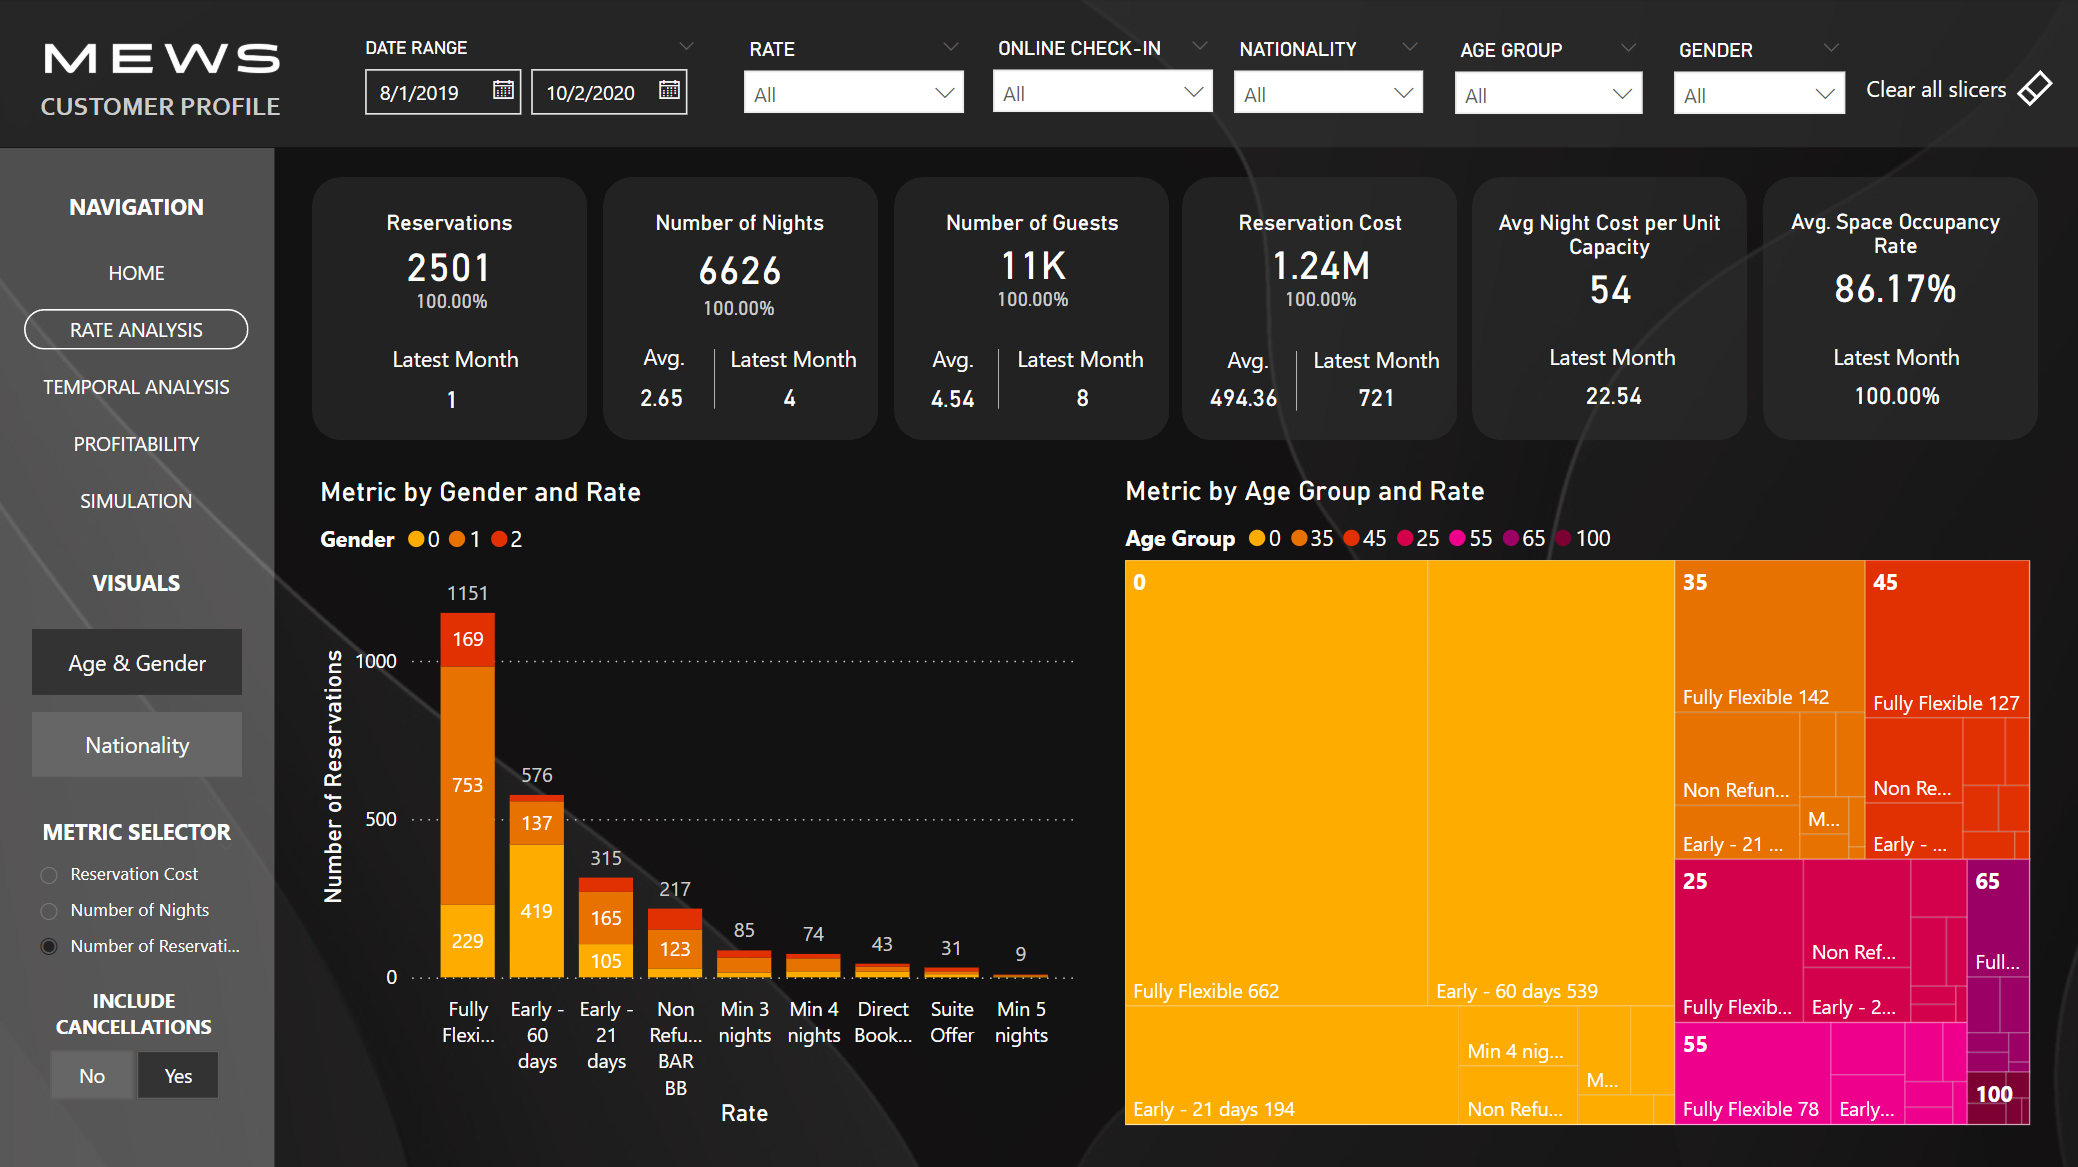

The dashboard page shown, as its layout file describes it:
{"tool":"powerbi","page":{"name":"RATE ANALYSIS","canvas":[1280,720],"ordinal":1},"visuals":[{"type":"group","id":"g1","title":"Background","box":[0,0,1280,720.9],"z":0},{"type":"shape","title":"Header Bar","box":[0,0,1280,91.7],"z":0,"group":"g2"},{"type":"shape","title":"Side Bar","box":[0,91.9,169.8,627.7],"z":0,"group":"g5"},{"type":"shape","title":"Box Reservations","box":[193.3,110,169.2,161.7],"z":0,"group":"g10"},{"type":"shape","title":"Box Num Nights","box":[371.7,110,169.2,161.7],"z":0,"group":"g11"},{"type":"shape","title":"Box Reservation Cost","box":[727.5,110,169.2,161.7],"z":0,"group":"g9"},{"type":"shape","title":"Box Avg. Night per Unit","box":[905.8,110,169.2,161.7],"z":0,"group":"g7"},{"type":"shape","title":"Box Avg. Occupancy","box":[1084.2,110,169.2,161.7],"z":0,"group":"g8"},{"type":"textbox","title":"Text Navitagor","box":[0,114.1,170,31.7],"z":0,"group":"g6"},{"type":"columnChart","title":"Metric by Gender and Rate","fields":{"Y":["int_reservations_enriched.Reservations"],"Category":["int_reservations_enriched.rate_name"],"Series":["int_reservations_enriched.gender"]},"box":[193.3,292.9,474.7,404.9],"z":0,"group":"g3"},{"type":"actionButton","title":"Nationality Bookmark","box":[20.6,438.6,129.1,39.7],"z":0,"group":"g4"},{"type":"shape","title":"Shader","box":[0,0,1280,720.9],"z":1000,"group":"g1"},{"type":"textbox","title":"Customer Profile Text","box":[20.8,51.7,165.8,30.8],"z":1000,"group":"g2"},{"type":"card","title":"Avg. Space Occupancy Rate","fields":{"Values":["int_reservations_enriched.avg_occupancy_rate"]},"box":[1088.2,129.5,155.6,70.4],"z":1000,"group":"g8"},{"type":"card","title":"Reservations","fields":{"Values":["int_reservations_enriched.Reservations"]},"box":[192.5,130,170,58.3],"z":1000,"group":"g10"},{"type":"card","title":"Avg Night Cost per Unit Capacity","fields":{"Values":["int_reservations_enriched.AvgNightCostPerUnitCapacity"]},"box":[905.8,130,169.2,70.8],"z":1000,"group":"g7"},{"type":"pageNavigator","box":[15.8,155.8,138.3,167.2],"z":1000,"group":"g6"},{"type":"card","title":"Avg. Num Nights","fields":{"Values":["int_reservations_enriched.avg_number_of_nights"]},"box":[370,215.8,75.8,62.5],"z":1000,"group":"g11"},{"type":"card","title":"Avg. Cost","fields":{"Values":["int_reservations_enriched.avg_reservation_cost"]},"box":[727.5,215.8,75.8,62.5],"z":1000,"group":"g9"},{"type":"treemap","title":"Metric by Age Group and Rate","fields":{"Values":["int_reservations_enriched.Reservations"],"Group":["int_reservations_enriched.age_group"],"Details":["int_reservations_enriched.rate_name"]},"box":[687.8,292.6,565.6,404.9],"z":1000,"group":"g3"},{"type":"actionButton","title":"Age & Gender Bookmark","box":[20.6,387.4,129.1,40.5],"z":1000,"group":"g4"},{"type":"slicer","title":"INCLUDE CANCELLATIONS","fields":{"Values":["IncludeCancellations.Include"]},"box":[6.1,607.5,154.4,75.7],"z":1000,"group":"g5"},{"type":"group","id":"g2","title":"Header","box":[0,0,1280,92.5],"z":2000},{"type":"image","title":"Mews Logo","box":[24.2,14.2,154.2,45.8],"z":2000,"group":"g2"},{"type":"shape","title":"Box Num Guests","box":[550,110,169.2,161.7],"z":2000,"group":"g12"},{"type":"card","title":"Reservations %","fields":{"Values":["int_reservations_enriched.% Reservations"]},"box":[193.7,151.7,170,71.7],"z":2000,"group":"g10"},{"type":"textbox","title":"Text Avg Num Nights","box":[391.7,206.7,49.2,33.3],"z":2000,"group":"g11"},{"type":"textbox","title":"Text Avg. Cost","box":[750,208.3,46.7,33.3],"z":2000,"group":"g9"},{"type":"card","title":"LM Avg. Night per Unit","fields":{"Values":["int_reservations_enriched.latest_month_night_cost_per_unit_capacity"]},"box":[955,214.2,75.8,62.5],"z":2000,"group":"g7"},{"type":"card","title":"LM Avg. Space Occupancy","fields":{"Values":["int_reservations_enriched.latest_month_occupancy_rate"]},"box":[1128.4,214.2,75.8,62.5],"z":2000,"group":"g8"},{"type":"textbox","title":"Visuals text box","box":[0,345.2,169.8,31.9],"z":2000,"group":"g4"},{"type":"slicer","title":"METRIC SELECTOR","fields":{"Values":["Parameter.Metric Selector"]},"box":[13,503.1,144.2,104.3],"z":2000,"group":"g5"},{"type":"slicer","title":"Gender Slicer","fields":{"Values":["int_reservations_enriched.gender"]},"box":[1019.8,20.2,124.5,71.8],"z":3000,"group":"g2"},{"type":"textbox","title":"Text LM Avg. Night per Unit","box":[948.3,206.7,95.8,45],"z":3000,"group":"g7"},{"type":"textbox","title":"Text LM Avg. Space Occupancy","box":[1122.5,206.7,95.8,45],"z":3000,"group":"g8"},{"type":"shape","title":"Num Nights Separator","box":[421.7,215.8,37.5,36.7],"z":3000,"group":"g11"},{"type":"card","title":"Avg. Num Guests","fields":{"Values":["int_reservations_enriched.avg_number_of_guests"]},"box":[548.3,216,75.8,62.5],"z":3000,"group":"g12"},{"type":"card","title":"LM Reservations","fields":{"Values":["int_reservations_enriched.latest_month_number_of_reservations"]},"box":[240.8,216.7,75.8,62.5],"z":3000,"group":"g10"},{"type":"shape","title":"Cost Separator","box":[779.2,216.7,37.5,36.7],"z":3000,"group":"g9"},{"type":"group","id":"g3","title":"Visuals","box":[19.9,292.6,1233.6,405.3],"z":3000},{"type":"group","id":"g4","title":"Visuals Selector","box":[0,345.2,169.8,133.1],"z":3000,"group":"g5"},{"type":"shape","title":"Age & Gender Visual Shader","box":[20.6,387.4,129.1,40.5],"z":3000,"group":"g4"},{"type":"slicer","title":"Nationality Slicer","fields":{"Values":["int_reservations_enriched.nationality_code"]},"box":[749.7,19.9,136,72.6],"z":4000,"group":"g2"},{"type":"group","id":"g5","title":"Side Bar","box":[0,91.9,170,627.7],"z":4000},{"type":"group","id":"g6","title":"Navigator","box":[0,114.1,170,208.9],"z":4000,"group":"g5"},{"type":"textbox","title":"Text LM Reservations","box":[237.5,207.5,95.8,45],"z":4000,"group":"g10"},{"type":"textbox","title":"Text Avg Num Guests","box":[568.3,207.5,46.7,33.3],"z":4000,"group":"g12"},{"type":"card","title":"LM Num Nights","fields":{"Values":["int_reservations_enriched.latest_month_number_of_nights"]},"box":[448.3,215.8,75.8,62.5],"z":4000,"group":"g11"},{"type":"card","title":"LM Cost","fields":{"Values":["int_reservations_enriched.latest_month_reservation_costs"]},"box":[809.2,215.8,75.8,62.5],"z":4000,"group":"g9"},{"type":"slicer","title":"Age Slicer","fields":{"Values":["int_reservations_enriched.age_group"]},"box":[885.2,20.2,134.5,71.8],"z":5000,"group":"g2"},{"type":"group","id":"g7","title":"KPI Avg. Night Cost per Unit","box":[905.8,110,169.2,166.7],"z":5000},{"type":"card","title":"Reservation Cost","fields":{"Values":["int_reservations_enriched.Total Reservation Cost"]},"box":[727.5,130,170,56.7],"z":5000,"group":"g9"},{"type":"card","title":"% Number of Nights","fields":{"Values":["int_reservations_enriched.% Nights"]},"box":[370,177.9,170,28.3],"z":5000,"group":"g11"},{"type":"shape","title":"Num Guests Separator","box":[595.8,215.8,37.5,36.7],"z":5000,"group":"g12"},{"type":"card","title":"Number of Guests %","fields":{"Values":["int_reservations_enriched.% Reservation Cost"]},"box":[550,172.5,170,27.5],"z":5250,"group":"g12"},{"type":"card","title":"Number of Guests","fields":{"Values":["int_reservations_enriched.Number of Guests"]},"box":[550,130,170,56.7],"z":5500,"group":"g12"},{"type":"slicer","title":"Rate Slicer","fields":{"Values":["int_reservations_enriched.rate_name"]},"box":[448.6,19.9,155.1,72.6],"z":6000,"group":"g2"},{"type":"group","id":"g8","title":"KPI Avg. Space Occupancy","box":[1084.2,110,169.2,166.7],"z":6000},{"type":"card","title":"Number of Nights","fields":{"Values":["int_reservations_enriched.Total Nights"]},"box":[371.4,130,169.2,62.5],"z":6000,"group":"g11"},{"type":"card","title":"Night Cost %","fields":{"Values":["int_reservations_enriched.% Reservation Cost"]},"box":[727.5,172.5,170,27.5],"z":6000,"group":"g9"},{"type":"card","title":"LM Num Guests","fields":{"Values":["int_reservations_enriched.most_recent_month_guest_count"]},"box":[628.5,215.8,75.8,62.5],"z":6000,"group":"g12"},{"type":"actionButton","title":"Clear Slicers","box":[1144.2,30,123.3,50],"z":7000,"group":"g2"},{"type":"group","id":"g9","title":"KPI Reservation Cost","box":[727.5,110,171.7,168.3],"z":7000},{"type":"textbox","title":"Text LM Num Nights","box":[445,207.5,95.8,45],"z":7000,"group":"g11"},{"type":"textbox","title":"Text LM Num Guests","box":[621,207.5,95.8,45],"z":7000,"group":"g12"},{"type":"textbox","title":"Text LM Cost","box":[803.3,208.3,95.8,45],"z":7000,"group":"g9"},{"type":"slicer","title":"Rate Slicer","fields":{"Values":["int_reservations_enriched.OnlineCheckinText"]},"box":[601.4,19.1,155.1,72.6],"z":8000,"group":"g2"},{"type":"group","id":"g10","title":"KPÎ Reservations","box":[192.5,110,171.2,169.2],"z":8000},{"type":"slicer","title":"Date Slicer","fields":{"Values":["int_reservations_enriched.start_datetime_utc"]},"box":[212.4,19.9,227.8,65.2],"z":9000,"group":"g2"},{"type":"group","id":"g11","title":"KPI Num Nights","box":[370,110,170.8,168.3],"z":9000},{"type":"group","id":"g12","title":"KPI Num Guests","box":[548.3,110,171.7,168.5],"z":10000}]}

Visuals, with their boxes in screenshot pixels (x1, y1, x2, y2), scaled from the page's 1280x720 canvas onto the 2078x1167 screenshot:
"Background" group: locate(0, 0, 2077, 1166)
"Header Bar" shape: locate(0, 0, 2077, 149)
"Side Bar" shape: locate(0, 149, 276, 1166)
"Box Reservations" shape: locate(314, 178, 588, 440)
"Box Num Nights" shape: locate(603, 178, 878, 440)
"Box Reservation Cost" shape: locate(1181, 178, 1456, 440)
"Box Avg. Night per Unit" shape: locate(1471, 178, 1745, 440)
"Box Avg. Occupancy" shape: locate(1760, 178, 2035, 440)
"Text Navitagor" textbox: locate(0, 185, 276, 236)
"Metric by Gender and Rate" columnChart: locate(314, 475, 1084, 1131)
"Nationality Bookmark" actionButton: locate(33, 711, 243, 775)
"Shader" shape: locate(0, 0, 2077, 1166)
"Customer Profile Text" textbox: locate(34, 84, 303, 134)
"Avg. Space Occupancy Rate" card: locate(1767, 210, 2019, 324)
"Reservations" card: locate(313, 211, 588, 305)
"Avg Night Cost per Unit Capacity" card: locate(1471, 211, 1745, 325)
pageNavigator: locate(26, 253, 250, 524)
"Avg. Num Nights" card: locate(601, 350, 724, 451)
"Avg. Cost" card: locate(1181, 350, 1304, 451)
"Metric by Age Group and Rate" treemap: locate(1117, 474, 2035, 1131)
"Age & Gender Bookmark" actionButton: locate(33, 628, 243, 694)
"INCLUDE CANCELLATIONS" slicer: locate(10, 985, 261, 1107)
"Header" group: locate(0, 0, 2077, 150)
"Mews Logo" image: locate(39, 23, 290, 97)
"Box Num Guests" shape: locate(893, 178, 1168, 440)
"Reservations %" card: locate(314, 246, 590, 362)
"Text Avg Num Nights" textbox: locate(636, 335, 716, 389)
"Text Avg. Cost" textbox: locate(1218, 338, 1293, 392)
"LM Avg. Night per Unit" card: locate(1550, 347, 1673, 448)
"LM Avg. Space Occupancy" card: locate(1832, 347, 1955, 448)
"Visuals text box" textbox: locate(0, 560, 276, 611)
"METRIC SELECTOR" slicer: locate(21, 815, 255, 984)
"Gender Slicer" slicer: locate(1656, 33, 1858, 149)
"Text LM Avg. Night per Unit" textbox: locate(1540, 335, 1695, 408)
"Text LM Avg. Space Occupancy" textbox: locate(1822, 335, 1978, 408)
"Num Nights Separator" shape: locate(685, 350, 745, 409)
"Avg. Num Guests" card: locate(890, 350, 1013, 451)
"LM Reservations" card: locate(391, 351, 514, 453)
"Cost Separator" shape: locate(1265, 351, 1326, 411)
"Visuals" group: locate(32, 474, 2035, 1131)
"Visuals Selector" group: locate(0, 560, 276, 775)
"Age & Gender Visual Shader" shape: locate(33, 628, 243, 694)
"Nationality Slicer" slicer: locate(1217, 32, 1438, 150)
"Side Bar" group: locate(0, 149, 276, 1166)
"Navigator" group: locate(0, 185, 276, 524)
"Text LM Reservations" textbox: locate(386, 336, 541, 409)
"Text Avg Num Guests" textbox: locate(923, 336, 998, 390)
"LM Num Nights" card: locate(728, 350, 851, 451)
"LM Cost" card: locate(1314, 350, 1437, 451)
"Age Slicer" slicer: locate(1437, 33, 1655, 149)
"KPI Avg. Night Cost per Unit" group: locate(1471, 178, 1745, 448)
"Reservation Cost" card: locate(1181, 211, 1457, 303)
"% Number of Nights" card: locate(601, 288, 877, 334)
"Num Guests Separator" shape: locate(967, 350, 1028, 409)
"Number of Guests %" card: locate(893, 280, 1169, 324)
"Number of Guests" card: locate(893, 211, 1169, 303)
"Rate Slicer" slicer: locate(728, 32, 980, 150)
"KPI Avg. Space Occupancy" group: locate(1760, 178, 2035, 448)
"Number of Nights" card: locate(603, 211, 878, 312)
"Night Cost %" card: locate(1181, 280, 1457, 324)
"LM Num Guests" card: locate(1020, 350, 1143, 451)
"Clear Slicers" actionButton: locate(1858, 49, 2058, 130)
"KPI Reservation Cost" group: locate(1181, 178, 1460, 451)
"Text LM Num Nights" textbox: locate(722, 336, 878, 409)
"Text LM Num Guests" textbox: locate(1008, 336, 1164, 409)
"Text LM Cost" textbox: locate(1304, 338, 1460, 411)
"Rate Slicer" slicer: locate(976, 31, 1228, 149)
"KPÎ Reservations" group: locate(313, 178, 590, 453)
"Date Slicer" slicer: locate(345, 32, 715, 138)
"KPI Num Nights" group: locate(601, 178, 878, 451)
"KPI Num Guests" group: locate(890, 178, 1169, 451)
